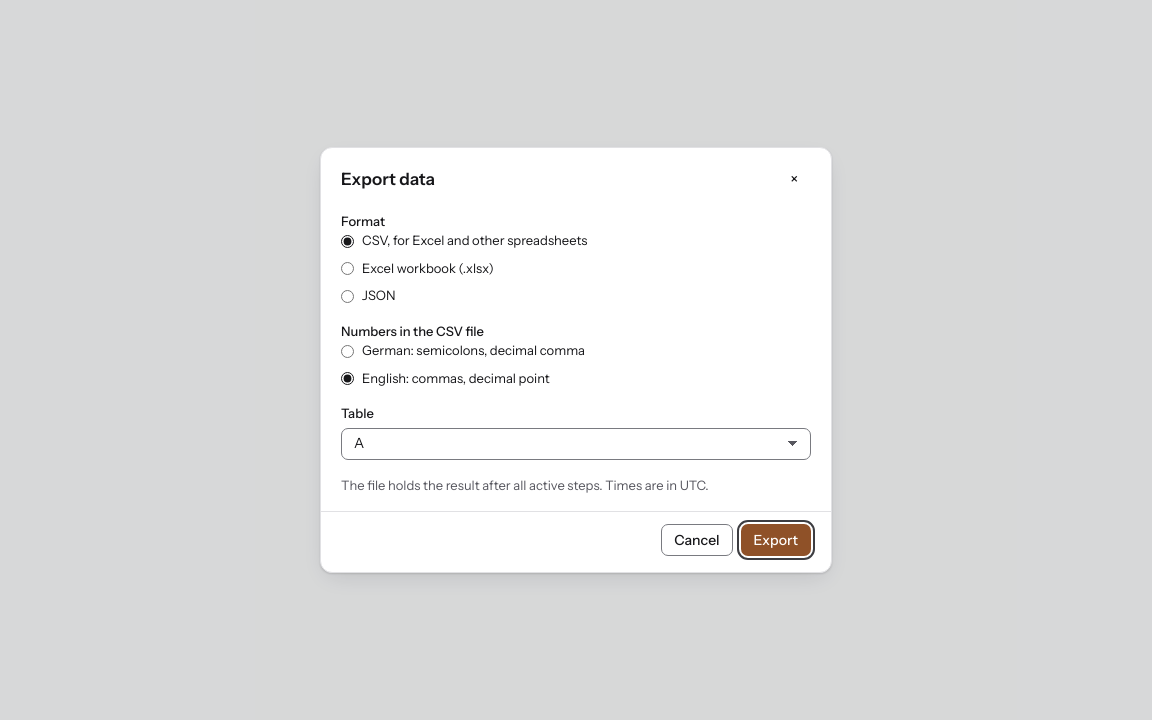
it: export dialog › sends the chosen format and number style
The width and height of the screenshot is (1152, 720).
Click the radio button labelled "German: semicolons, decimal comma" at (348, 351), box [341,344,354,358]
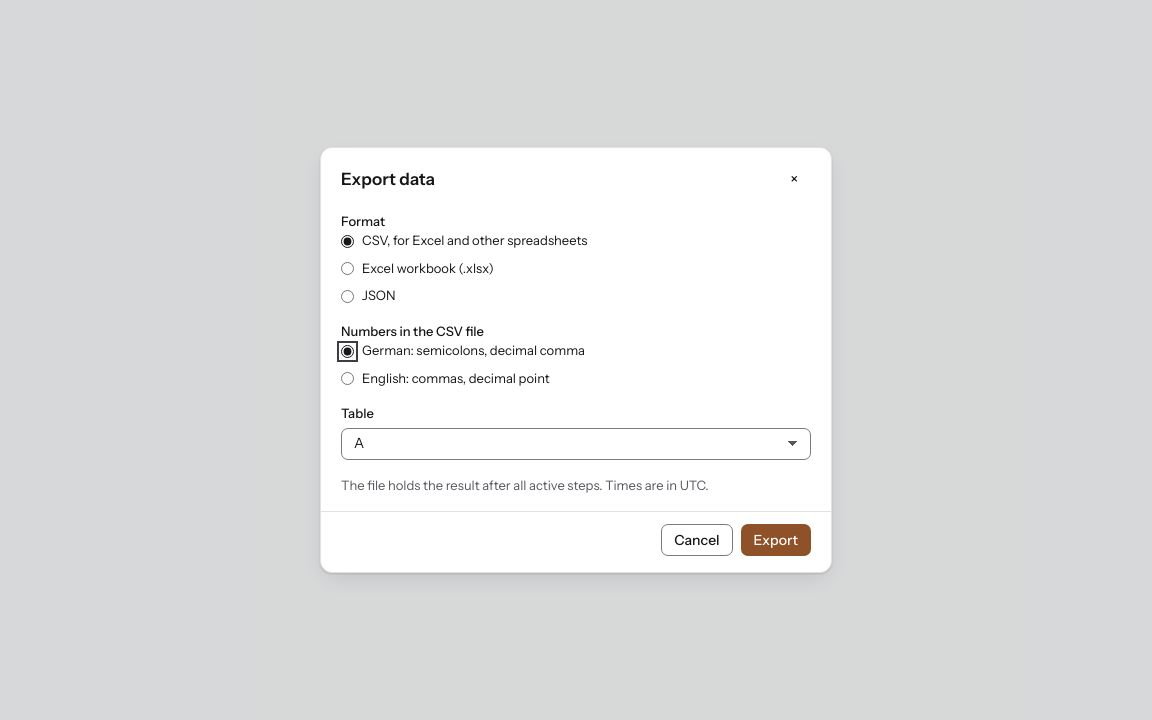
Select "B" in the dropdown labelled "Table" at (576, 444), box [341,428,811,460]
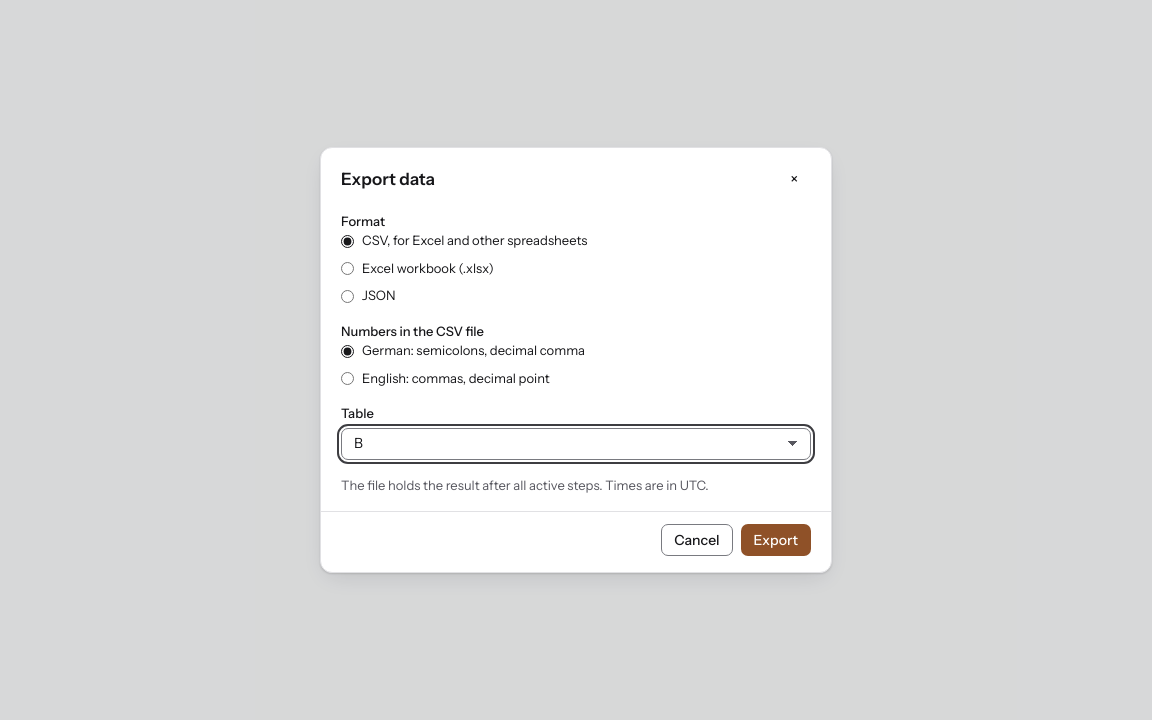
Click the button "Export" at (776, 540), box [741,524,811,556]
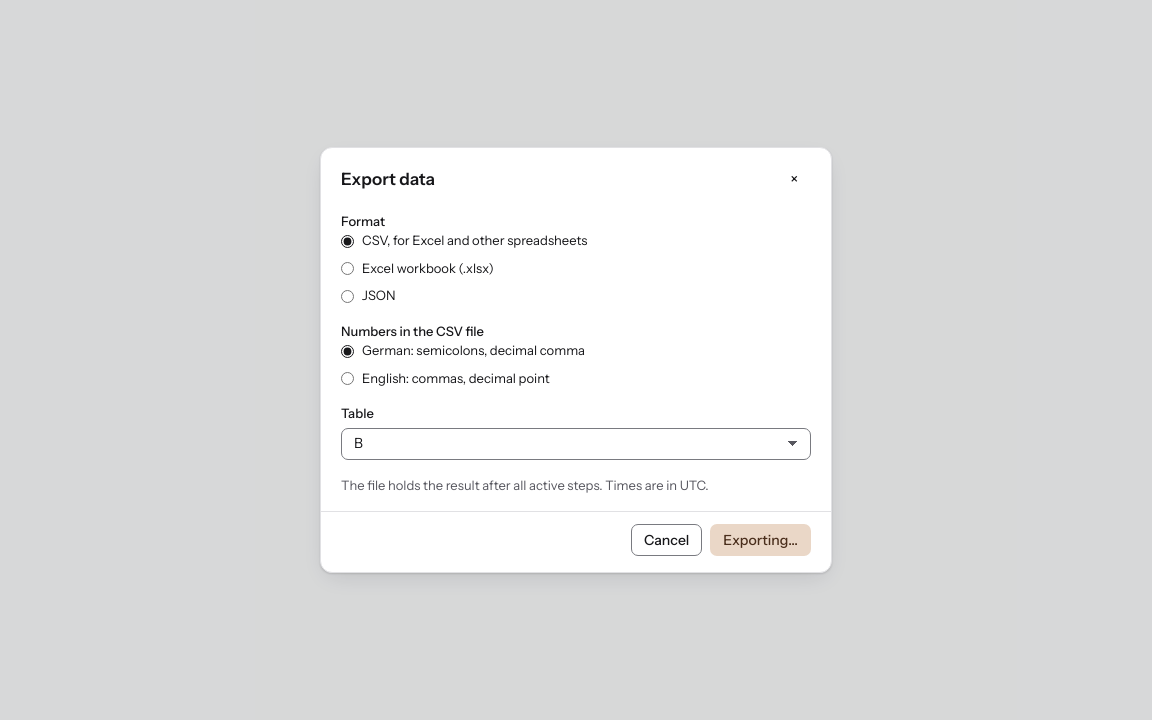
expect the button "Exporting…" is shown: met, box [710,524,811,556]
